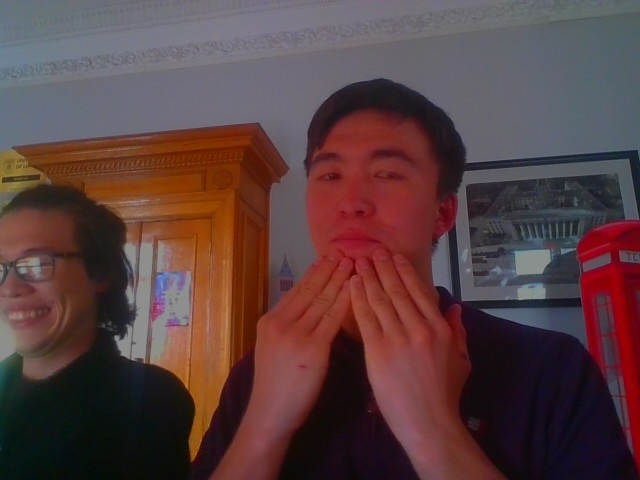thanks: (245, 256, 542, 418)
